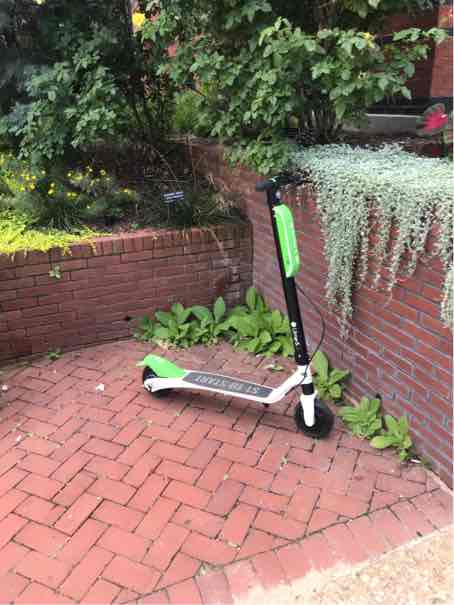scooter: (131, 157, 333, 437)
